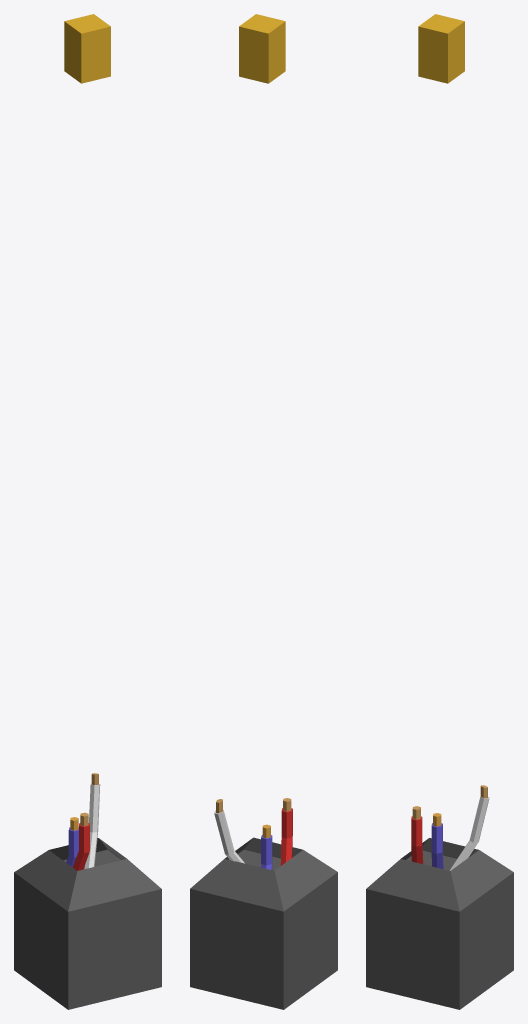
Rendered from FootingLamppost.fbx.
3 renders of one model, left to right at view 1: azimuth 30°, elevation 25°; view 2: azimuth 150°, elevation 25°; view 3: azimuth 330°, elevation 25°, orthographic.
Parts seen in each view (by area): view 1: Cube.001, Cube.002, Cylinder, Cylinder.001, Cylinder.002; view 2: Cube.001, Cube.002, Cylinder.001, Cylinder, Cylinder.002; view 3: Cube.001, Cube.002, Cylinder, Cylinder.001, Cylinder.002.
Part boxes in pixels (x1,y1,x2,y2): Cube.001: (14,838,161,1009); Cube.002: (64,14,110,83); Cylinder: (84,773,100,868); Cylinder.001: (73,812,89,870); Cylinder.002: (66,817,78,867); Cube.001: (190,837,337,1009); Cube.002: (239,14,285,83); Cylinder.001: (280,798,292,865); Cylinder: (214,799,244,863); Cylinder.002: (261,824,272,869); Cube.001: (366,838,513,1009); Cube.002: (418,14,464,83); Cylinder: (449,785,489,870); Cylinder.001: (411,806,423,863); Cylinder.002: (431,813,443,869).
Size of the model in its own units: 89.9 by 875 by 89.9.
